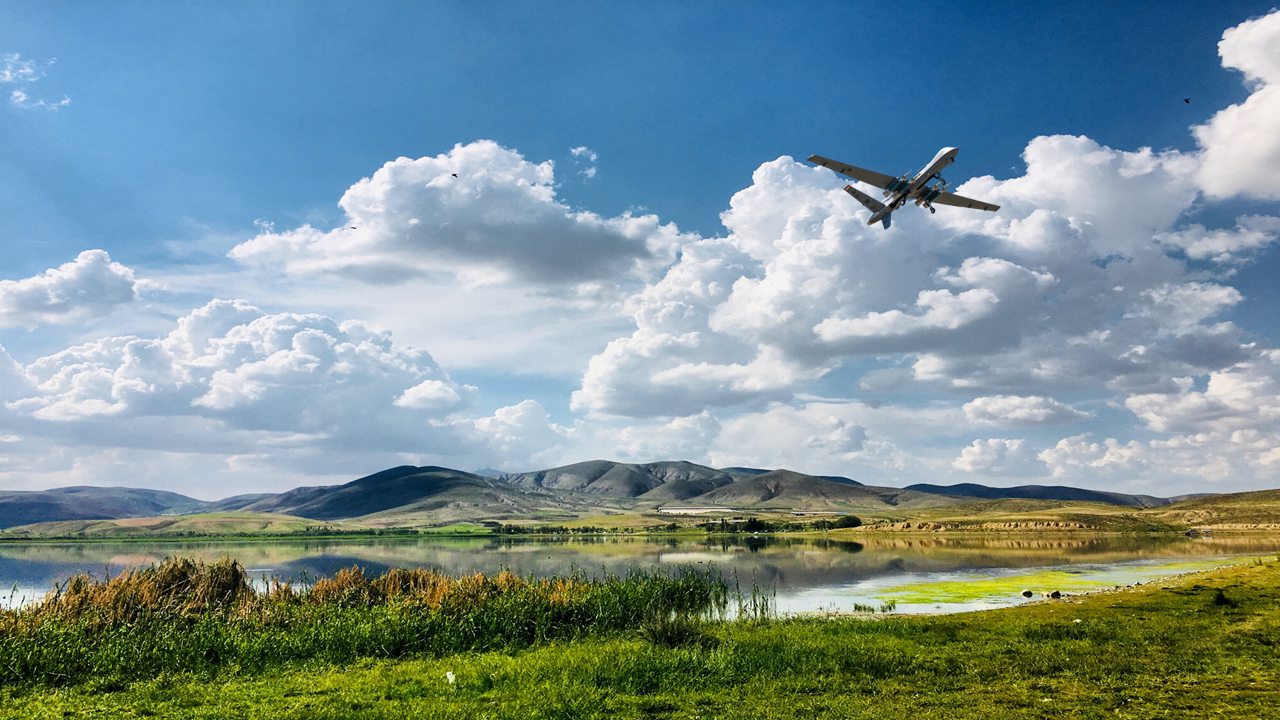military drone: (806, 146, 1000, 229)
